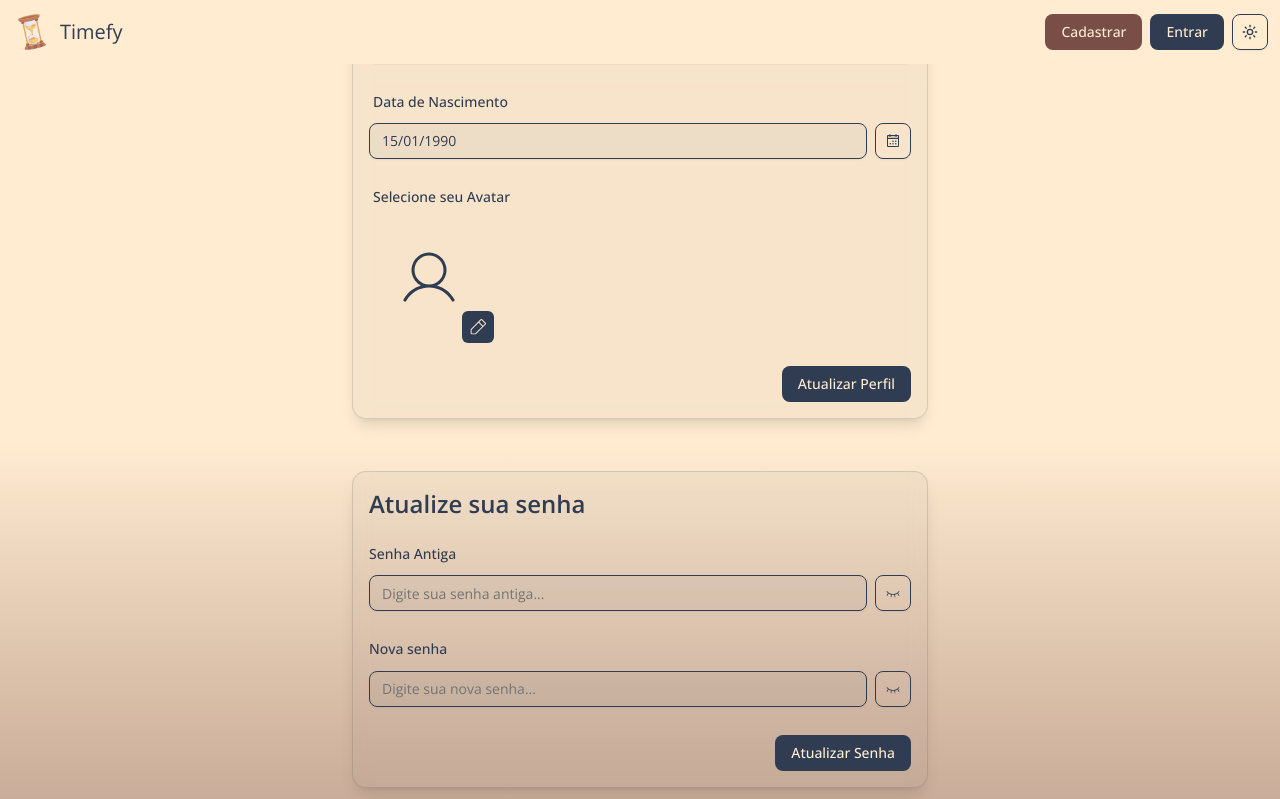
Test case: ProfilePage › Password Update Form Validation › should show error when old password does not contain a letter
(page scrolled)
In the password field labelled "Senha Antiga": (618, 593) 369,575 -> 867,611, type "12345678!"
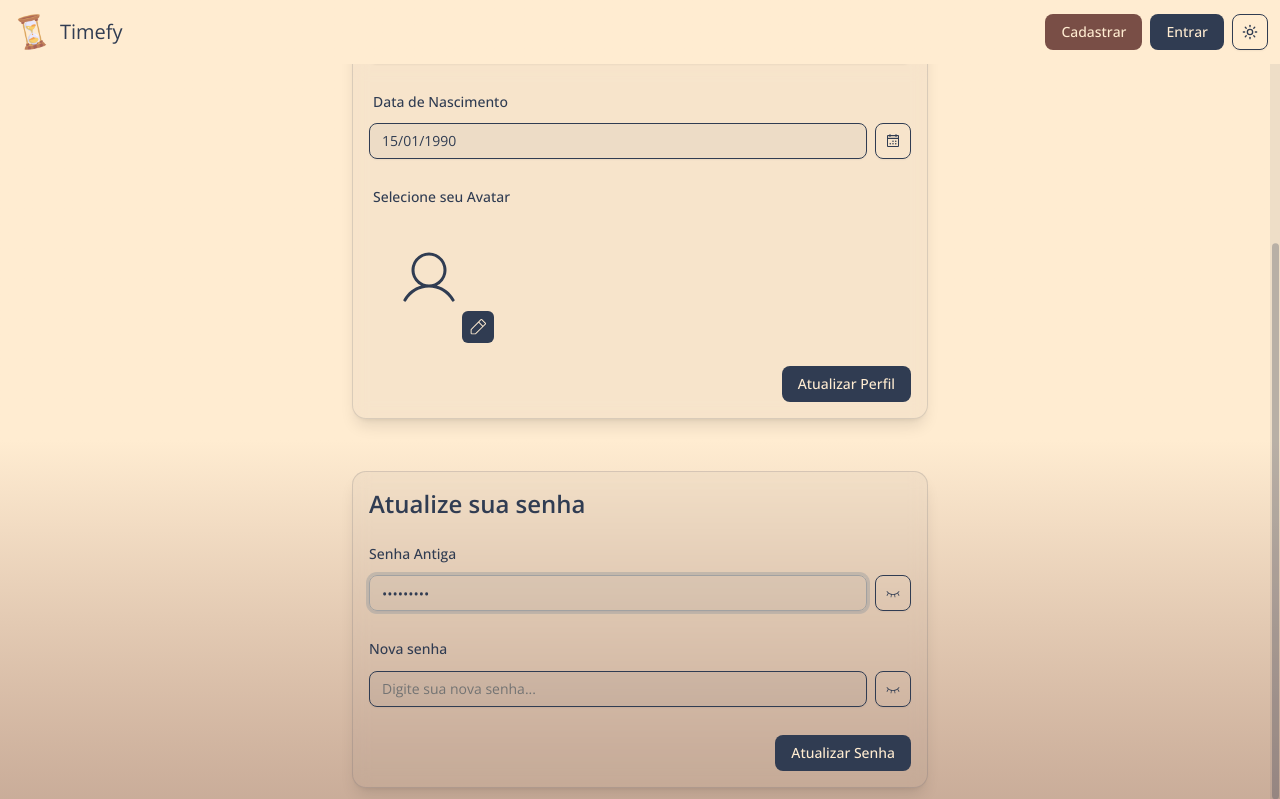
Click the button "Atualizar Senha": (843, 752) 775,734 -> 911,770
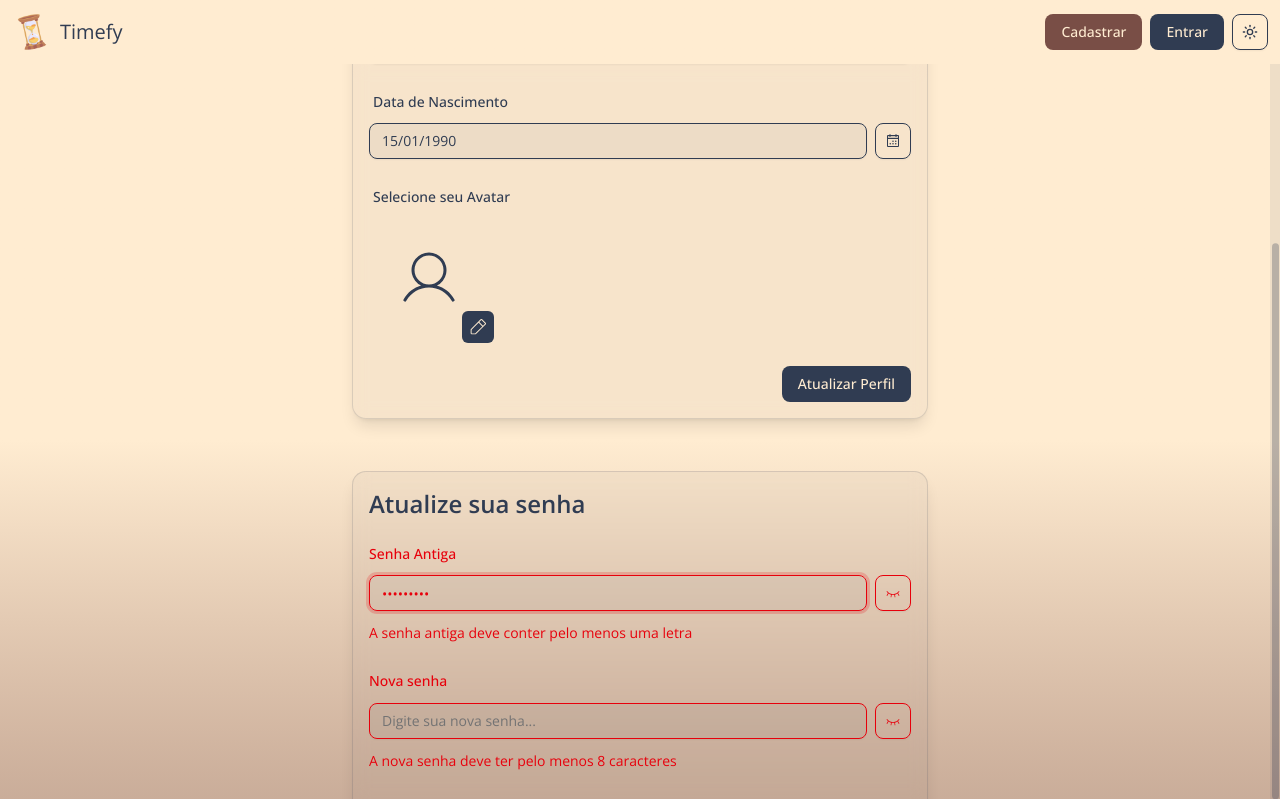
Check: the text "A senha antiga deve conter pelo menos uma letra" is shown, box 369,623 -> 692,642
